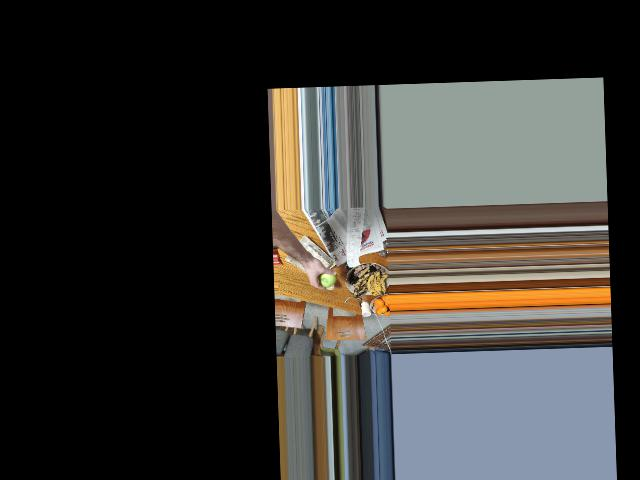apple: (316, 269, 336, 288)
